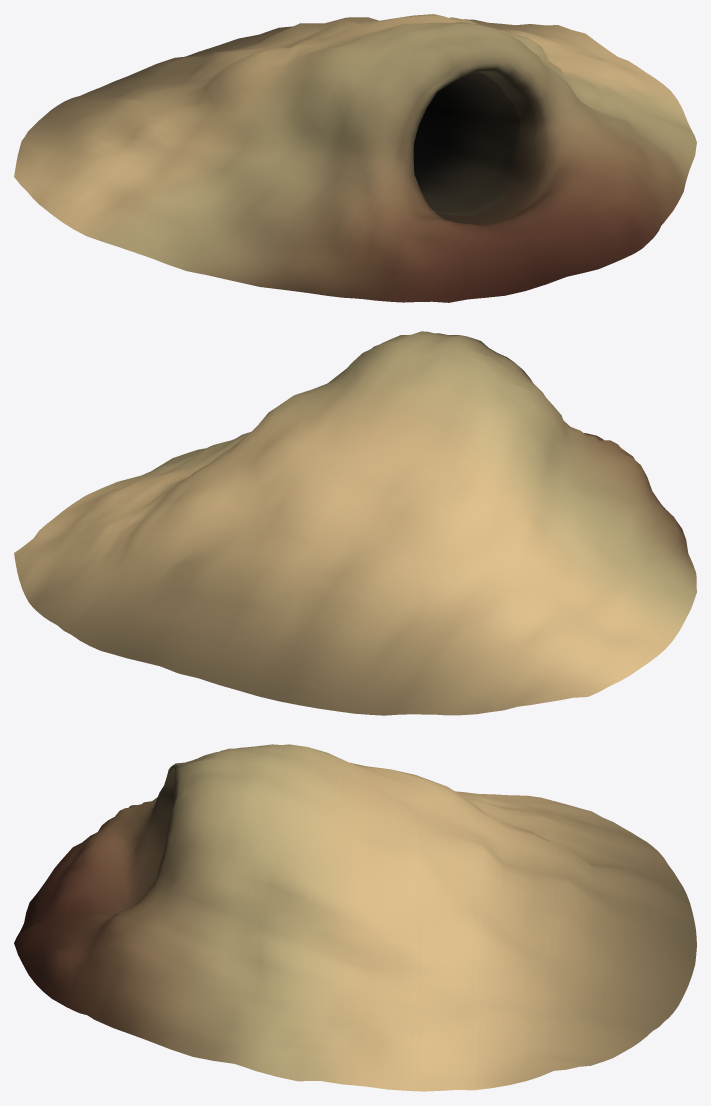
The model's file is Burrow.gltf.
The picture shows the model from 3 angles, top to bottom: view 1: azimuth 30°, elevation 25°; view 2: azimuth 150°, elevation 25°; view 3: azimuth 270°, elevation 25°; orthographic projection. The views are drawn at different scales.
Parts seen in each view (by area): view 1: Burrow; view 2: Burrow; view 3: Burrow.
Part boxes in pixels (box(x1,y1,x2,y2)): Burrow: box(14, 14, 696, 302); Burrow: box(14, 331, 696, 715); Burrow: box(14, 744, 696, 1091).
Size of the model in its own units: 1.09 by 0.3112 by 1.05.
Materials: 1 (1 with a texture image).
